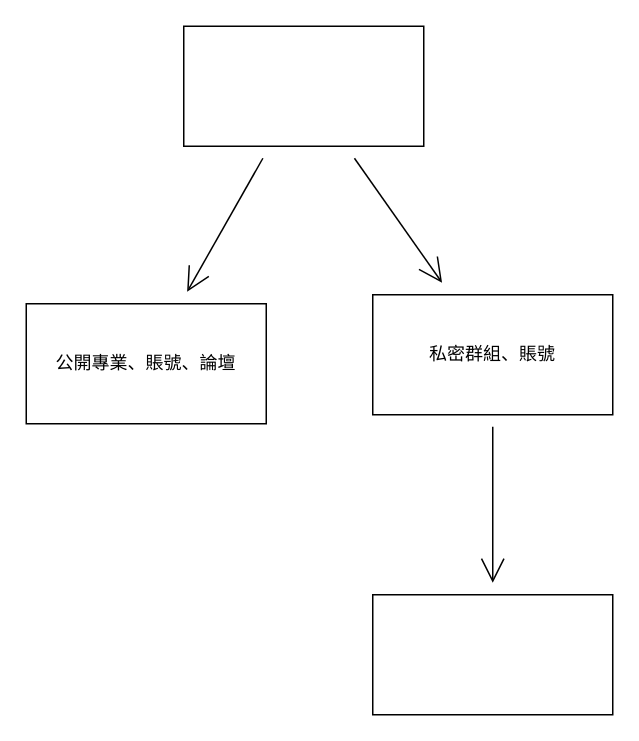
The diagram is 639 pixels wide and 741 high, and some of its shapes have lost their labels. Here are the shapes that lost their labels. From the top down, the centre of each, then its label:
(x=303, y=85): 添加監控目標
(x=492, y=654): 添加超級賬號
